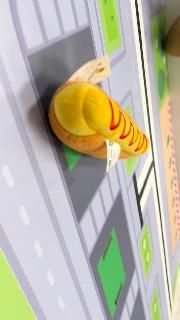hotdog: (50, 80, 150, 160)
